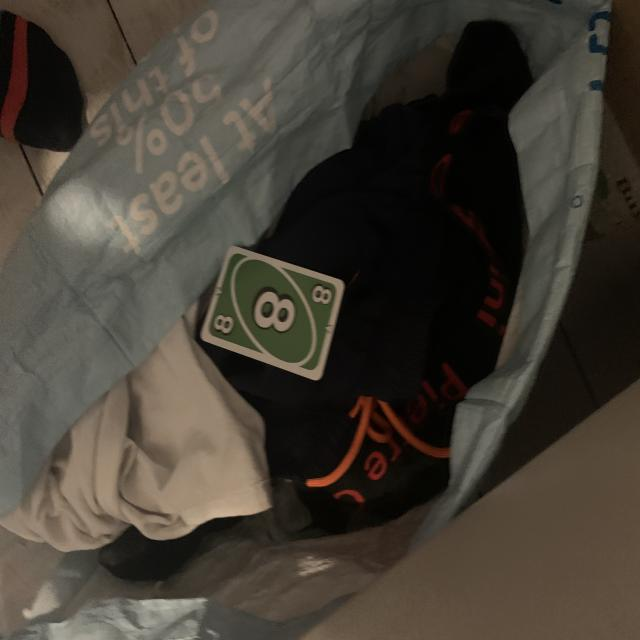lgreen-8: (211, 310, 237, 338)
